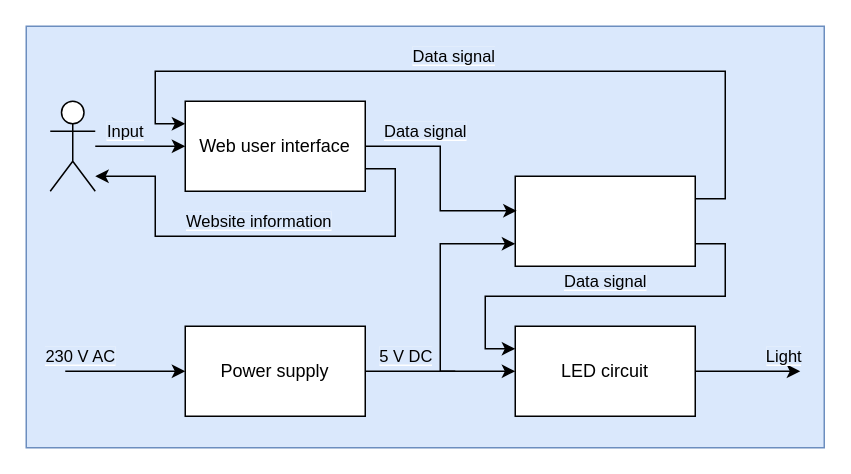
The diagram is 851 pixels wide and 474 high, and some of its shapes have lost their labels. Each missing label, with the centre of its shape:
Microcontroller: the point at 604,220
User: the point at 72,145
